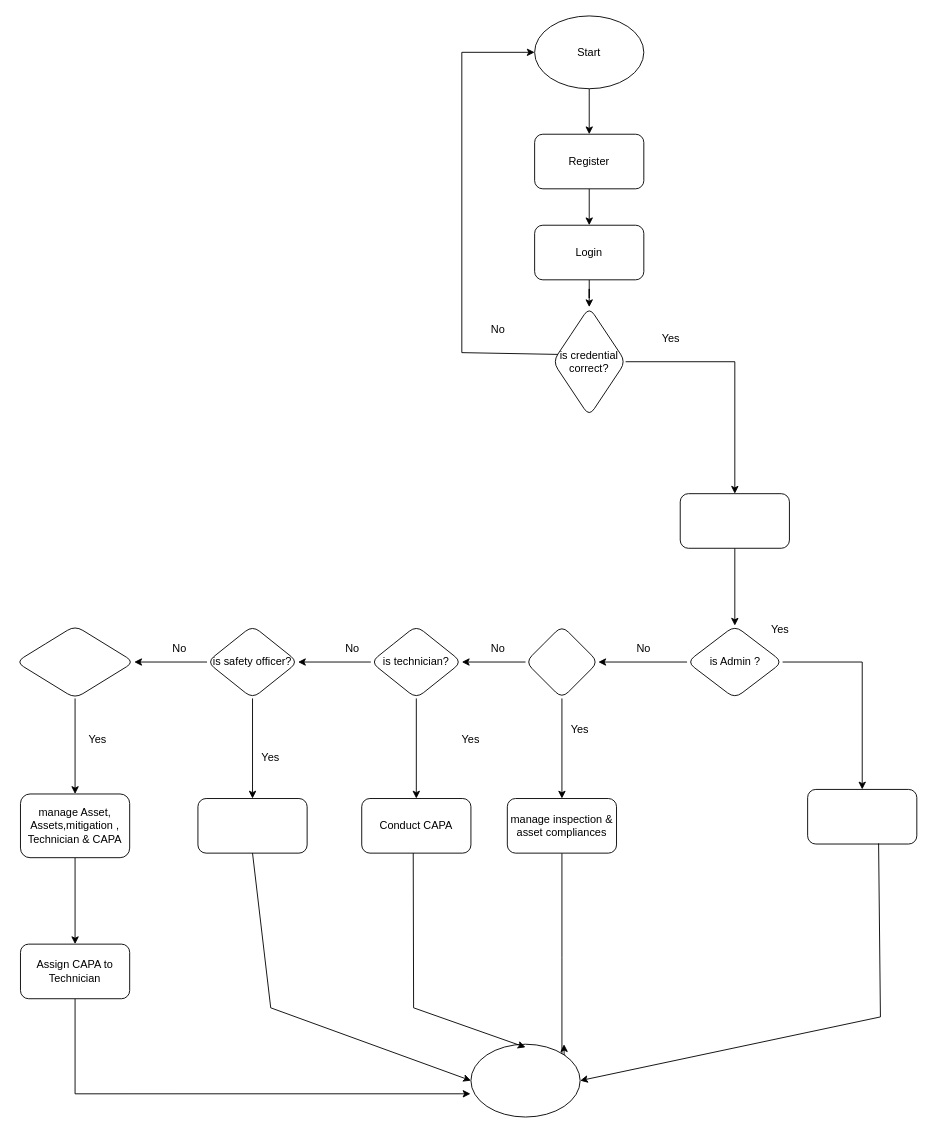
Image size: 933x1133. Some labels were removed from this diagram. Here are the shapes that lost their labels. From the top down, the centre of each, then its label:
At (734,520): "Check user role".
At (74,661): "is Estate manager ?".
At (561,661): "is inspector?".
At (252,825): "Manage Risks and incidents".
At (862,816): "manage System".
At (525,1080): "End".
